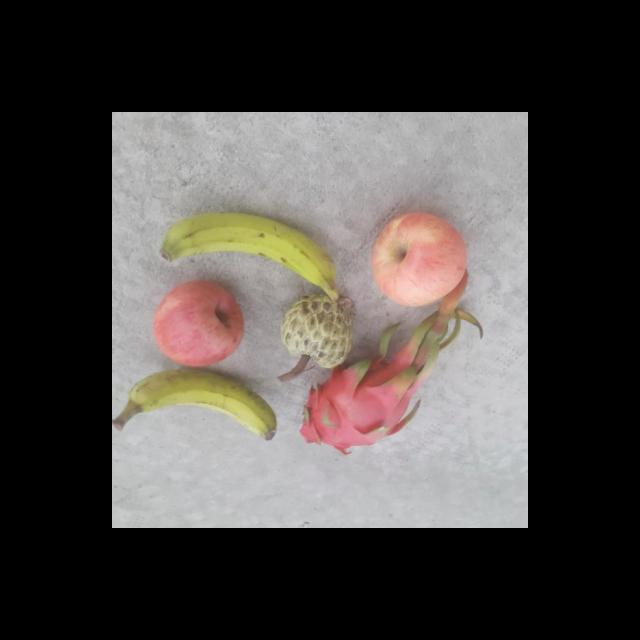Sakya fruit: (277, 294, 358, 366)
apple: (364, 208, 468, 310), (148, 279, 246, 368)
banana: (158, 210, 354, 310), (114, 369, 276, 441)
pitaya: (290, 348, 427, 458)
